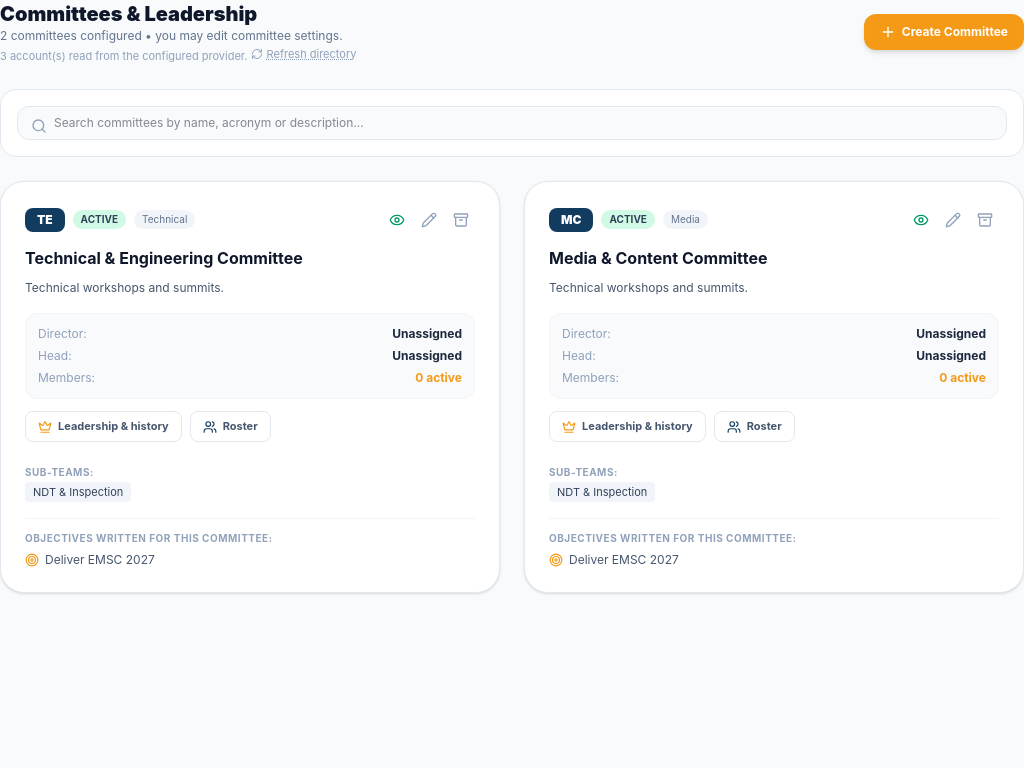
committee CMS › seats a Director chosen from the directory, shows the account behind the seat, and leaves their role alone
This screenshot has width=1024, height=768.
Expected: the heading "Technical & Engineering Committee" is shown, [25,248,303,268]
Click the button "Leadership & history" below "Technical & Engineering Committee". click: {"x": 103, "y": 427}
box: [25,411,182,442]
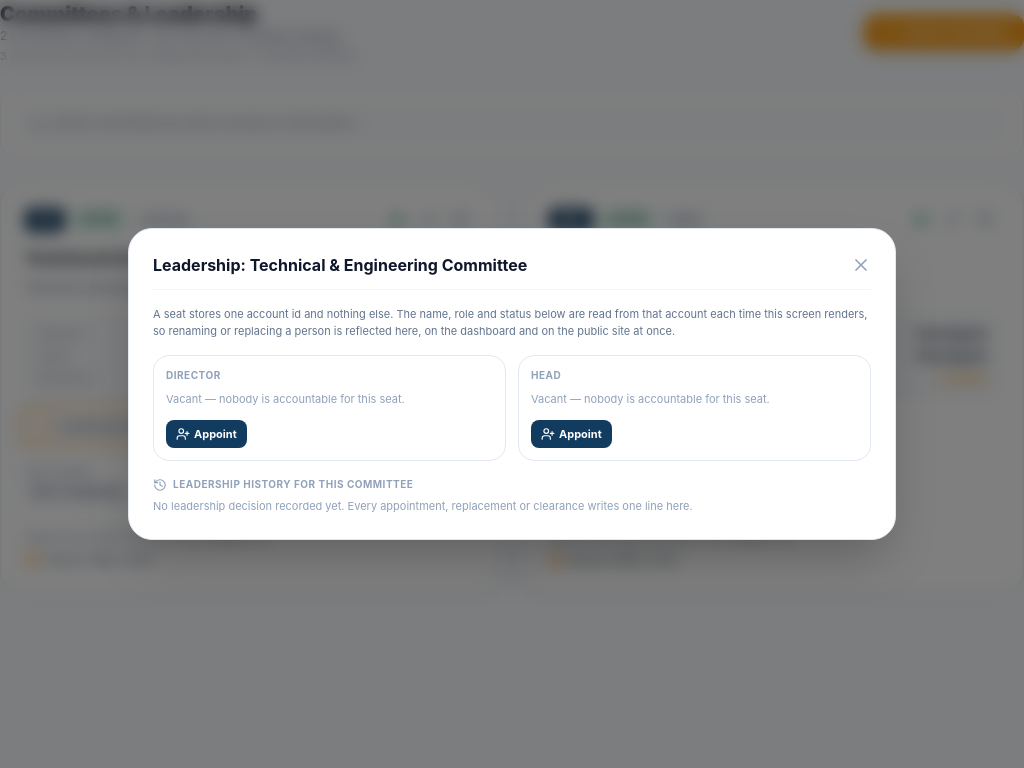
Click the 1st button "Appoint". click: {"x": 206, "y": 434}
box: [166,420,247,448]
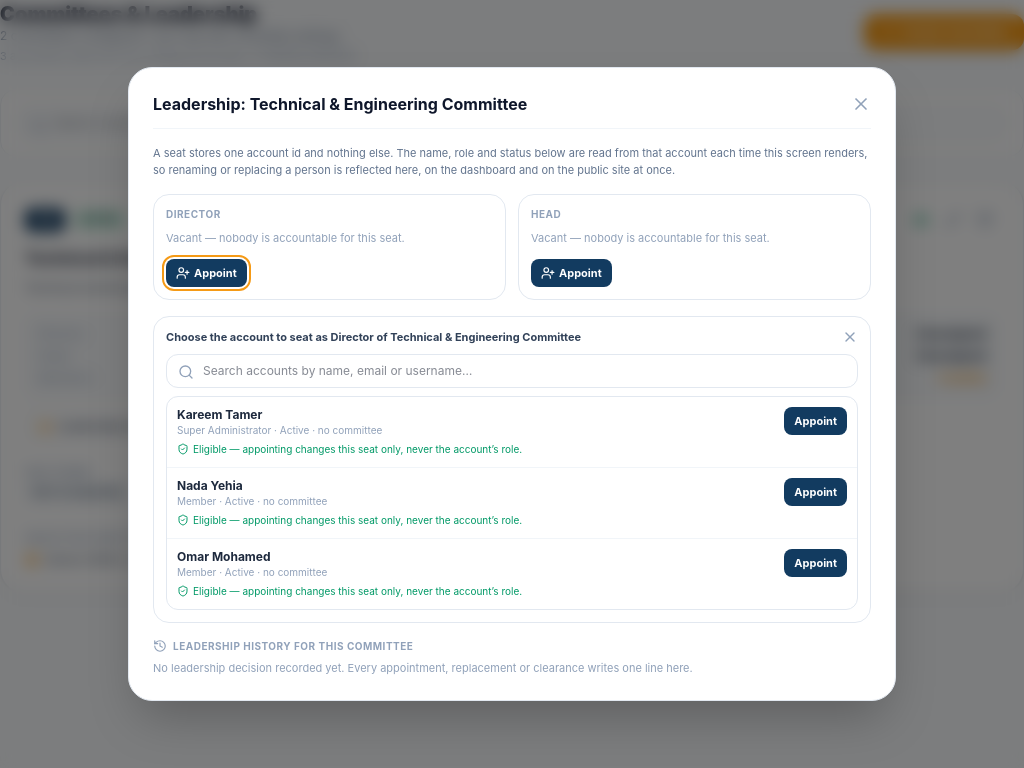
Expected: the search field named "Search accounts to appoint as Director" is shown
Type "nada" into the search field named "Search accounts to appoint as Director". click: {"x": 512, "y": 370}
box: [166,354,858,388]
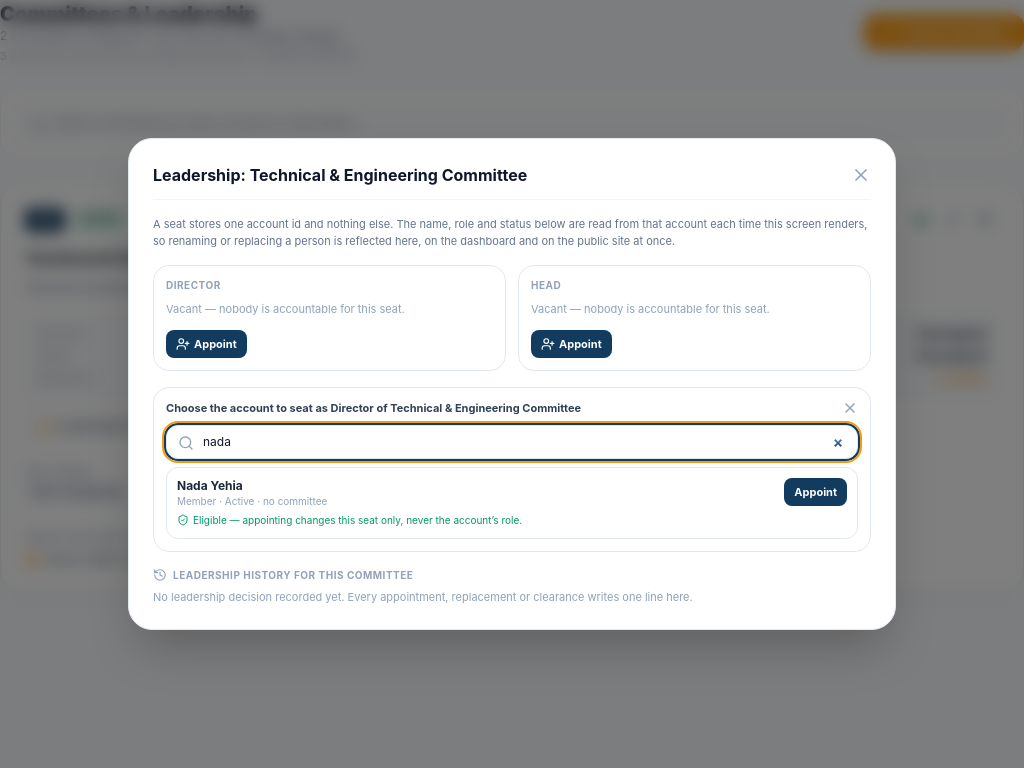
Expected: the button "Appoint" in the row of "Nada Yehia" is enabled
Click the button "Appoint" in the row of "Nada Yehia". click: {"x": 816, "y": 492}
box: [784,478,847,506]
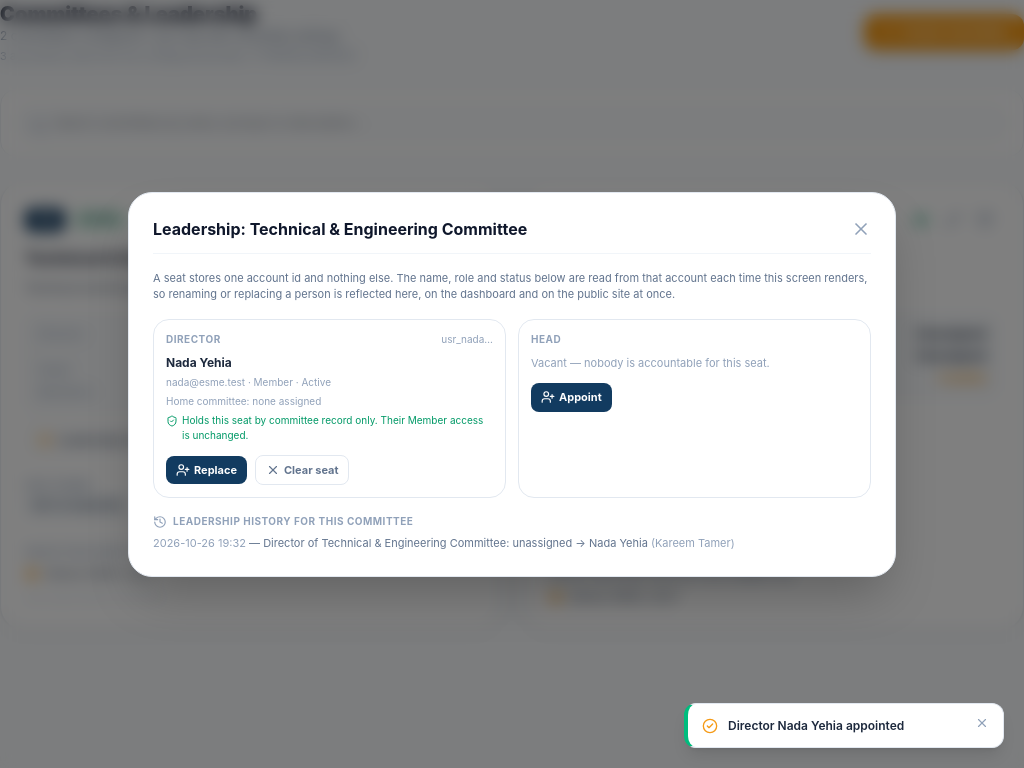
Expected: the text "nada@esme.test · Member · Active" is shown, [166,376,331,388]
Expected: the text "Holds this seat by committee record only. Their Member access is unchanged." is shown, [166,412,493,442]
Expected: the text "Nada Yehia" is shown, [396,326,462,341]
